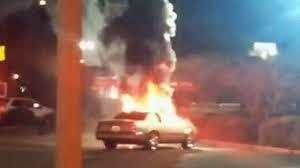fire: (115, 77, 193, 133)
